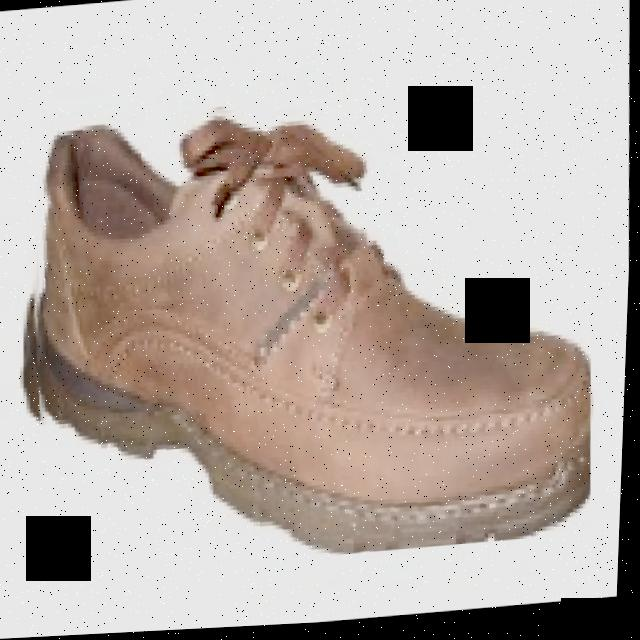shoe: (12, 73, 608, 582)
